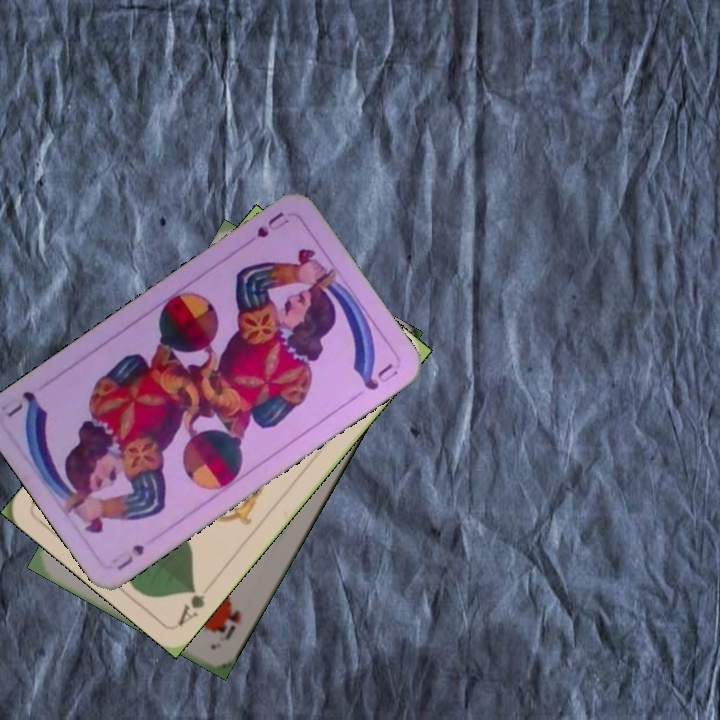GA: (174, 581, 208, 628)
HO: (211, 606, 244, 645)
SU: (241, 207, 292, 249), (113, 540, 147, 573)
